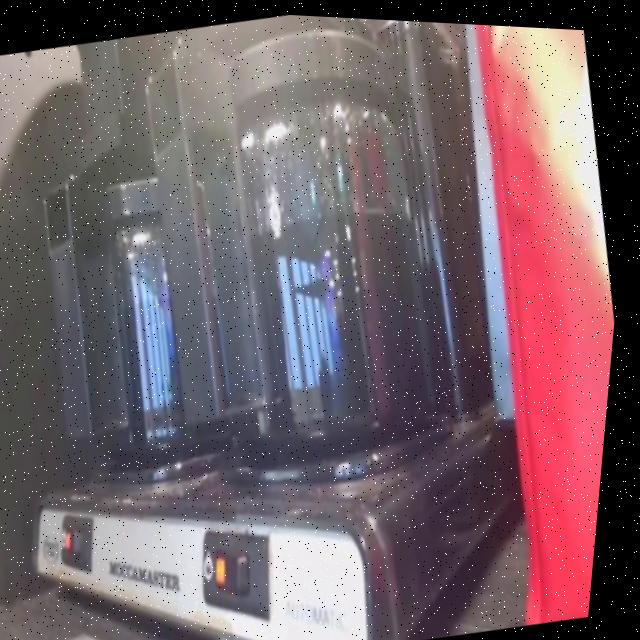coffee: (203, 118, 463, 461), (76, 234, 253, 460)
